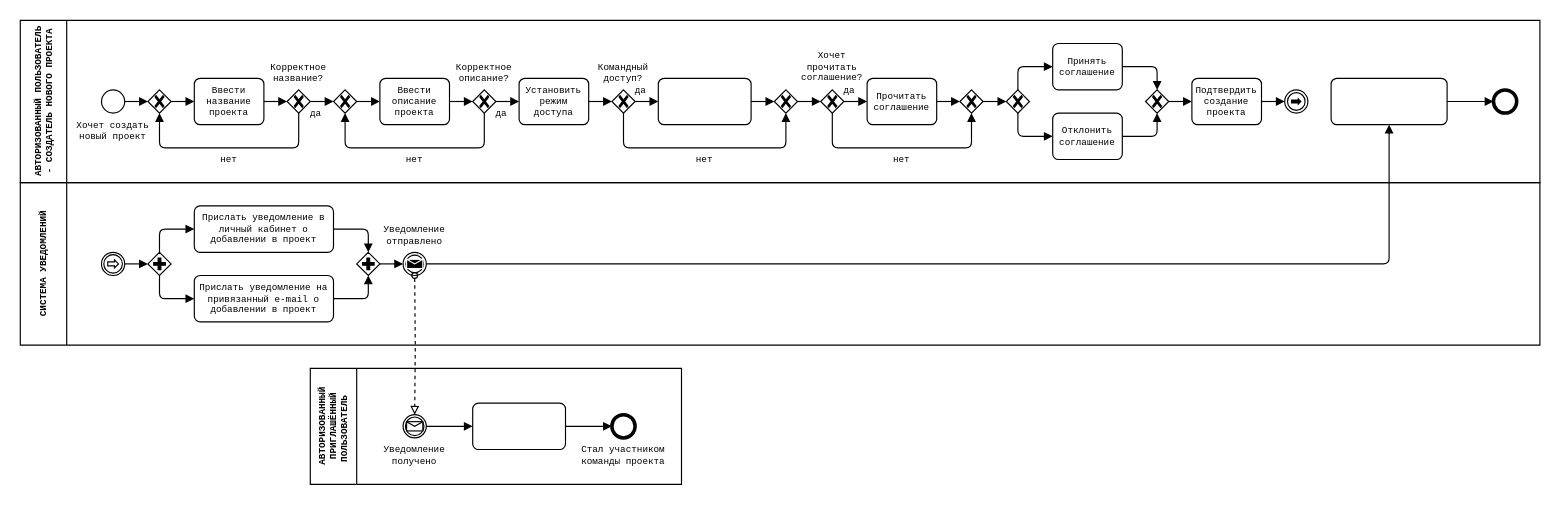
Some shapes in this 1560 by 505 pixel diagram are drawn without their labels. The centre of each missing label's shape, as x and y in pixels:
Ввести идентификаторы участников: the point at 704,101
Открыть страницу созданного проекта: the point at 1388,101
Принять приглашение в команду проекта: the point at 519,425
